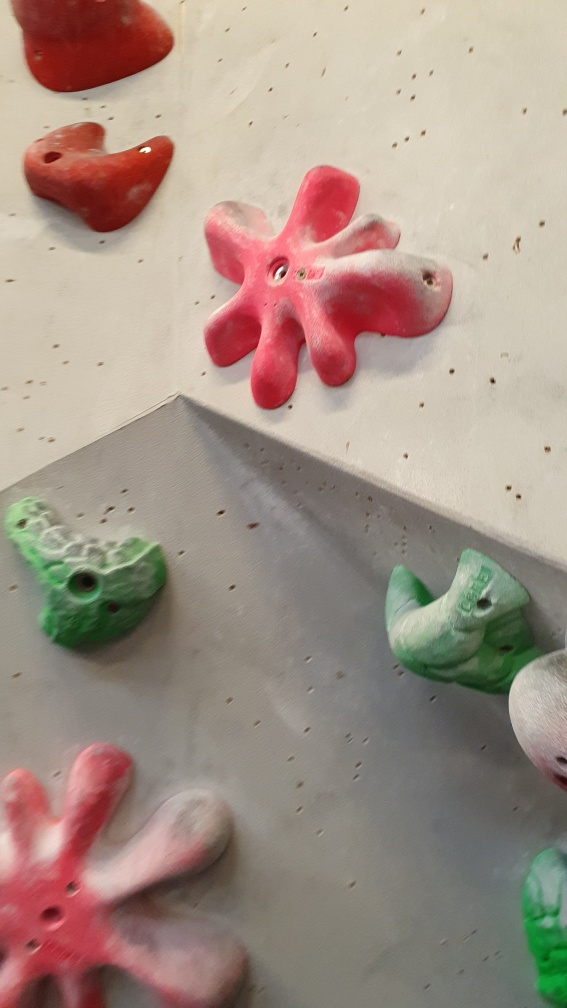Jug: (375, 541, 548, 705)
Octopus Pinch: (194, 156, 458, 412), (1, 737, 248, 1007)
Sloper: (504, 648, 567, 796)
